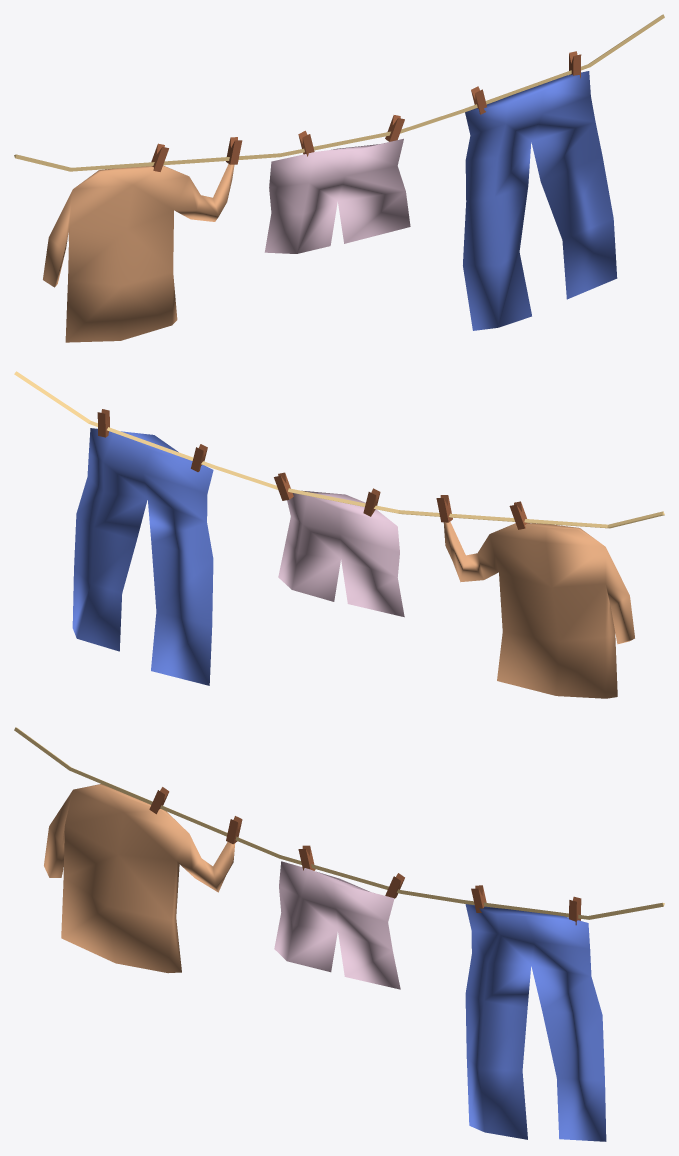
File: WashingLine.fbx
3 views of the same model, one above another, from view 1: azimuth 30°, elevation 25°; view 2: azimuth 150°, elevation 25°; view 3: azimuth 330°, elevation 25° (orthographic).
Visible parts, largest first — view 1: Cube.263; view 2: Cube.263; view 3: Cube.263.
Part boxes in pixels (x1=…): Cube.263: x1=14, y1=14, x2=664, y2=342; Cube.263: x1=14, y1=371, x2=664, y2=698; Cube.263: x1=14, y1=727, x2=664, y2=1141.
Bounding box in the file's own units: 915 × 385 × 43.52.
